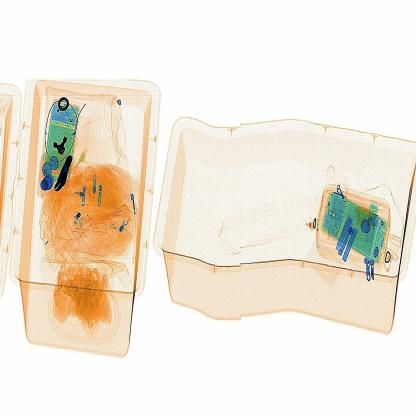knife: (55, 146, 83, 200)
